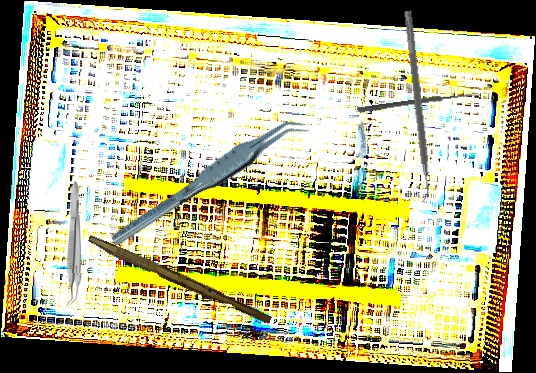Scalpel Handle: (85, 234, 274, 326)
Spatula Surgical: (395, 10, 436, 204)
Surgical Spoon: (357, 90, 480, 114)
Tissue Forceps: (98, 112, 319, 249), (63, 180, 83, 308)
